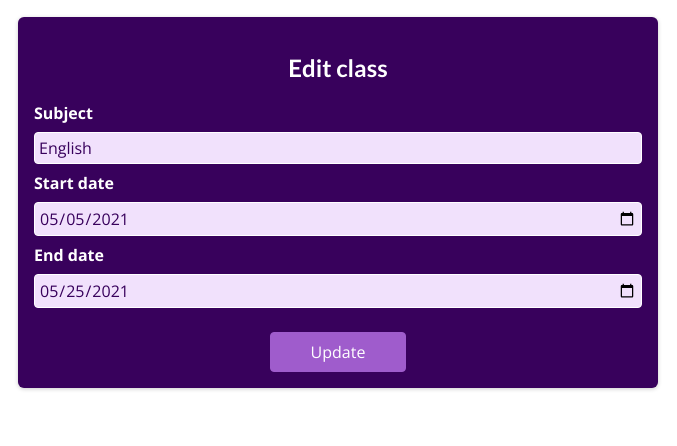
it: Edit class page › renders end date error if end date is empty
Clear the date field named "endDate-input" at [338, 291], box [34,274,642,308]
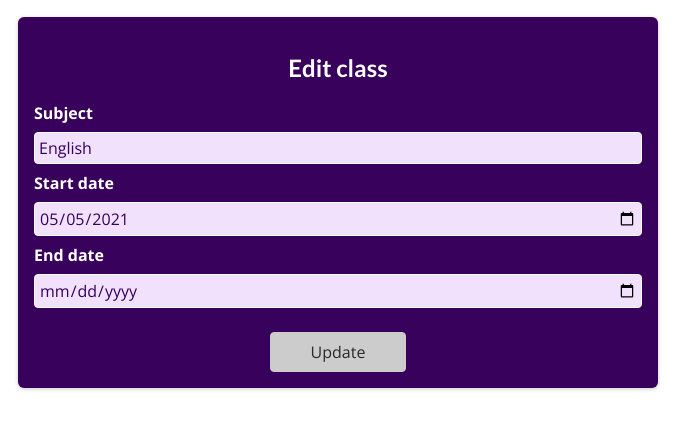
Leave the date field named "endDate-input", box [34,274,642,308]
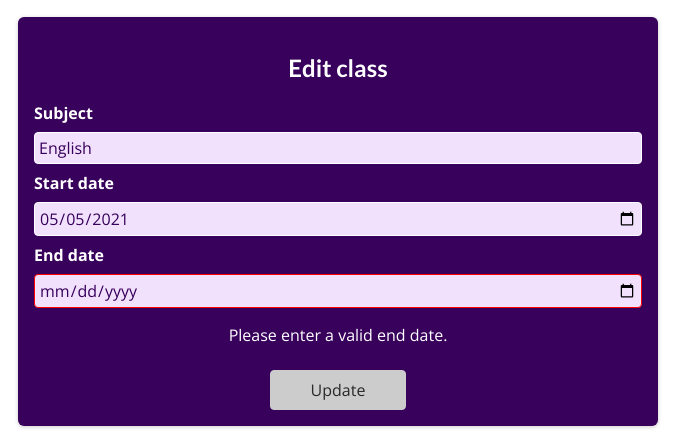
Expected: the text "Please enter a valid end date." is shown, [229,324,447,346]
